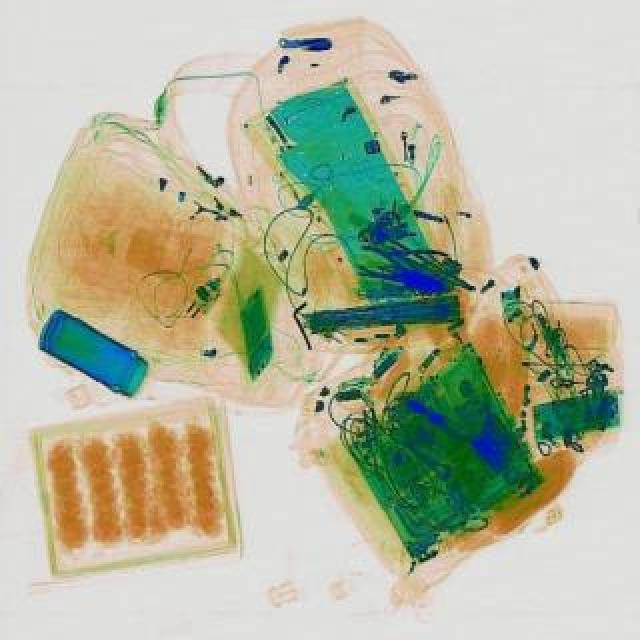wrench: (350, 240, 430, 292), (374, 232, 448, 280)
